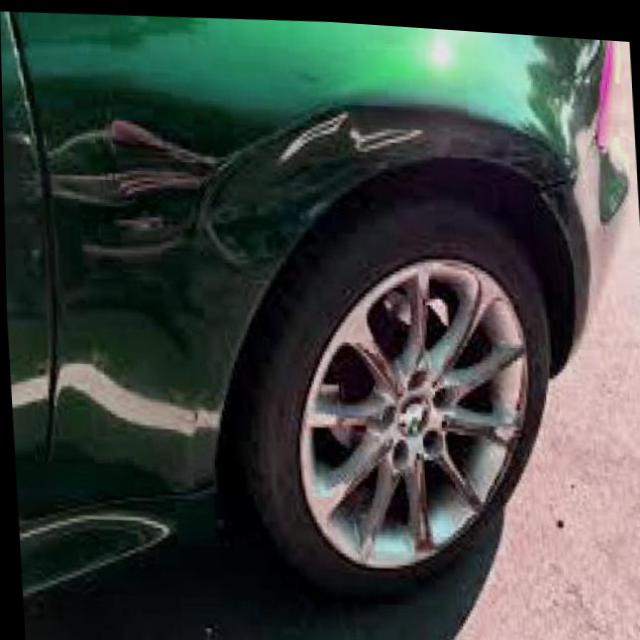Car-Damage: (195, 97, 390, 278)
